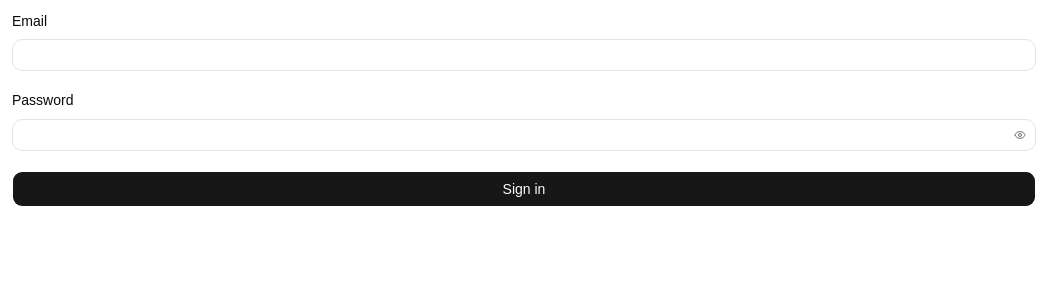
Test: SignInForm › shows 'Invalid credentials' on 401 without trying a refresh
In the field labelled "Email": (524, 55) [12,39,1036,71], type "jane@example.com"
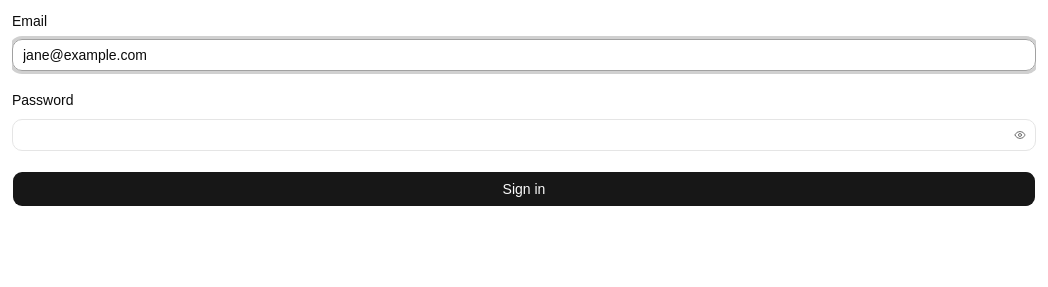
In the password field labelled "Password": (524, 134) [12,118,1036,150], type "wrong-password"
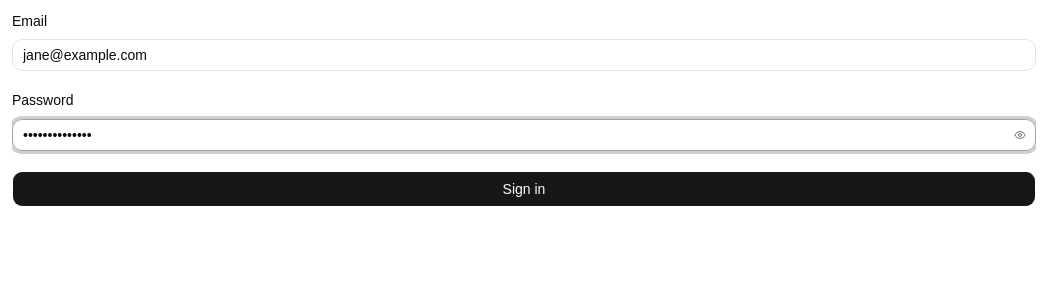
Click the button "Sign in": (524, 188) [12,170,1036,206]
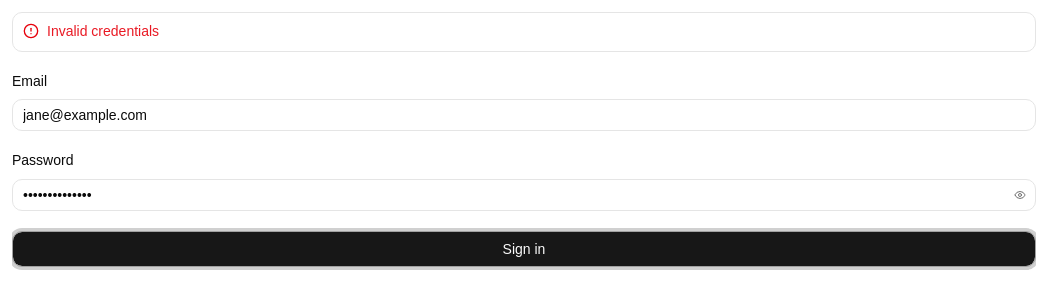
expect the text "Invalid credentials" is shown: met, box [47,23,159,39]
